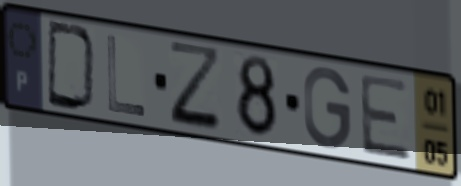8: (232, 53, 280, 143)
D: (45, 17, 100, 115)
E: (357, 71, 415, 165)
G: (301, 64, 354, 152)
L: (104, 32, 148, 120)
Z: (166, 38, 225, 137)
